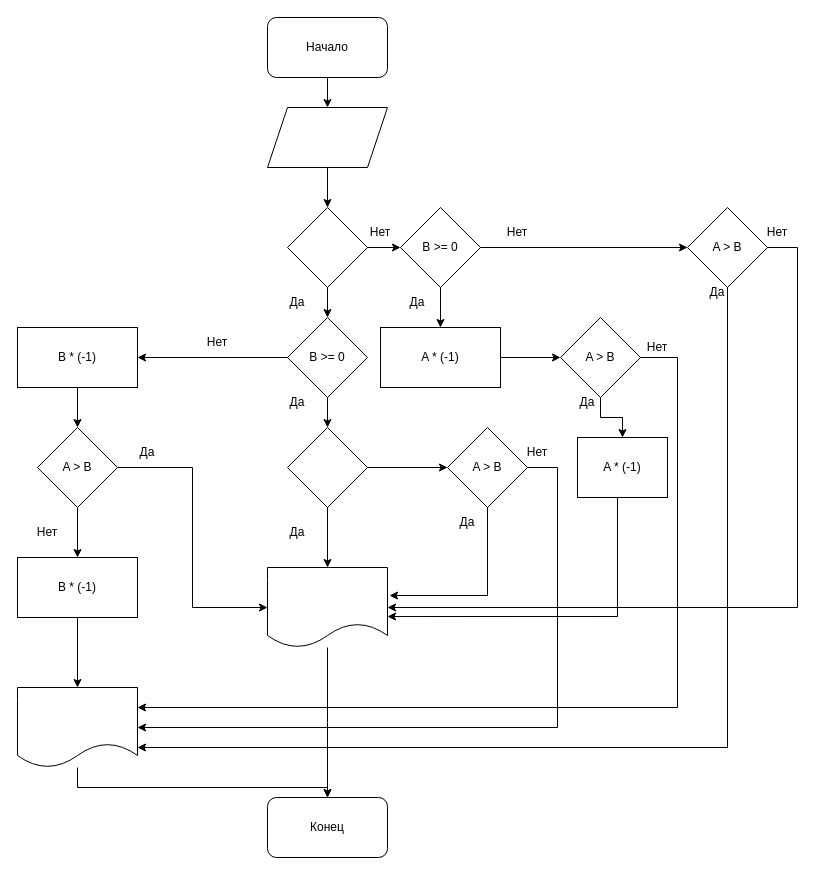
The diagram is 825 pixels wide and 875 high, and some of its shapes have lost their labels. Here are the shapes that lost their labels. From the top down, the centre of each, then its label:
the point at 327,137: A, B
the point at 327,247: A >= 0
the point at 327,467: A == B
the point at 327,607: Вывод A
the point at 77,727: Вывод B
